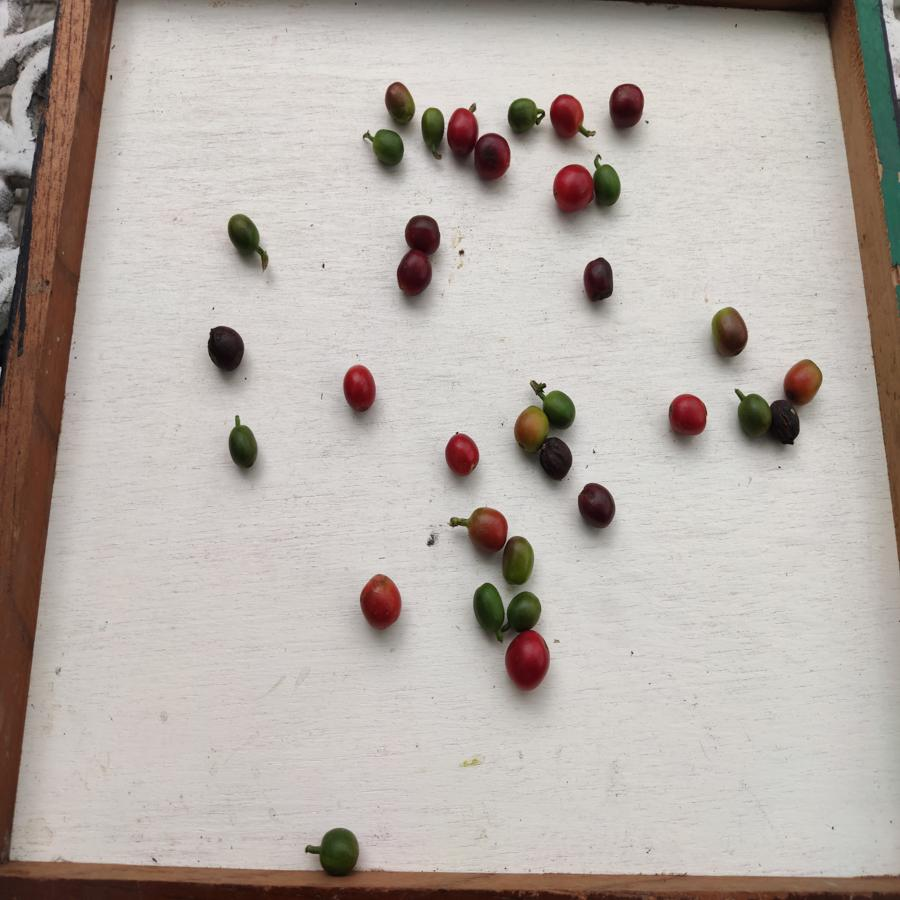Inmaduro: (317, 822, 361, 877), (472, 576, 507, 638), (735, 393, 772, 439), (227, 212, 263, 258), (504, 589, 542, 632), (228, 418, 258, 471), (365, 130, 405, 165), (545, 390, 580, 430), (593, 162, 622, 208), (506, 98, 540, 135), (421, 106, 445, 154)
Maduro: (502, 630, 551, 691), (358, 575, 405, 629), (552, 163, 593, 215), (468, 505, 508, 554), (442, 430, 481, 477), (667, 393, 708, 437), (550, 93, 585, 141), (343, 365, 377, 413), (448, 105, 476, 155)
Pinton: (710, 304, 748, 358), (784, 355, 821, 403), (502, 536, 535, 588), (384, 78, 416, 126), (514, 404, 544, 452)
Sobremaduro: (204, 324, 247, 375), (475, 131, 513, 183), (608, 82, 646, 132), (577, 481, 615, 529), (394, 252, 433, 298), (399, 212, 442, 252), (579, 258, 615, 304), (769, 401, 802, 448), (538, 437, 572, 478)
